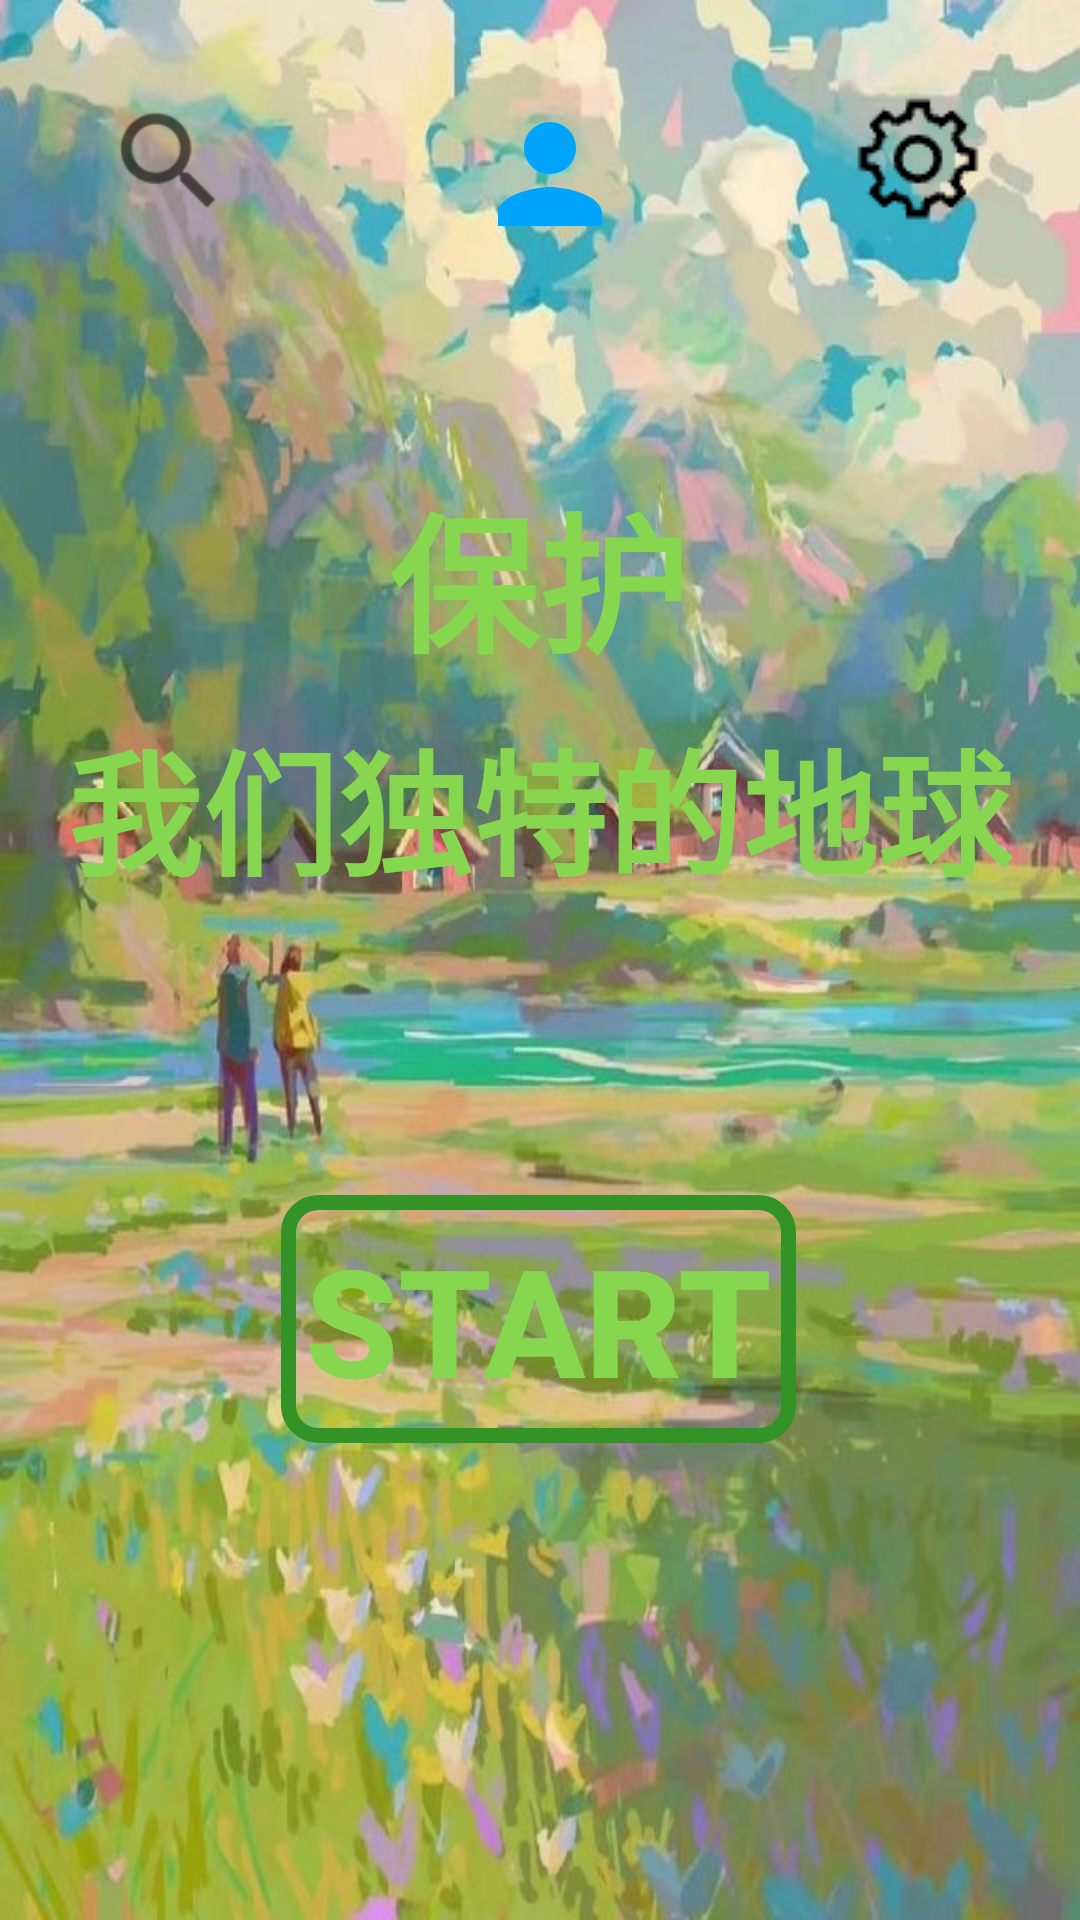

Point at icon controls on the screen. Image size 1080x1920, points as [x,y].
setting: [919,160]
user: [549,174]
